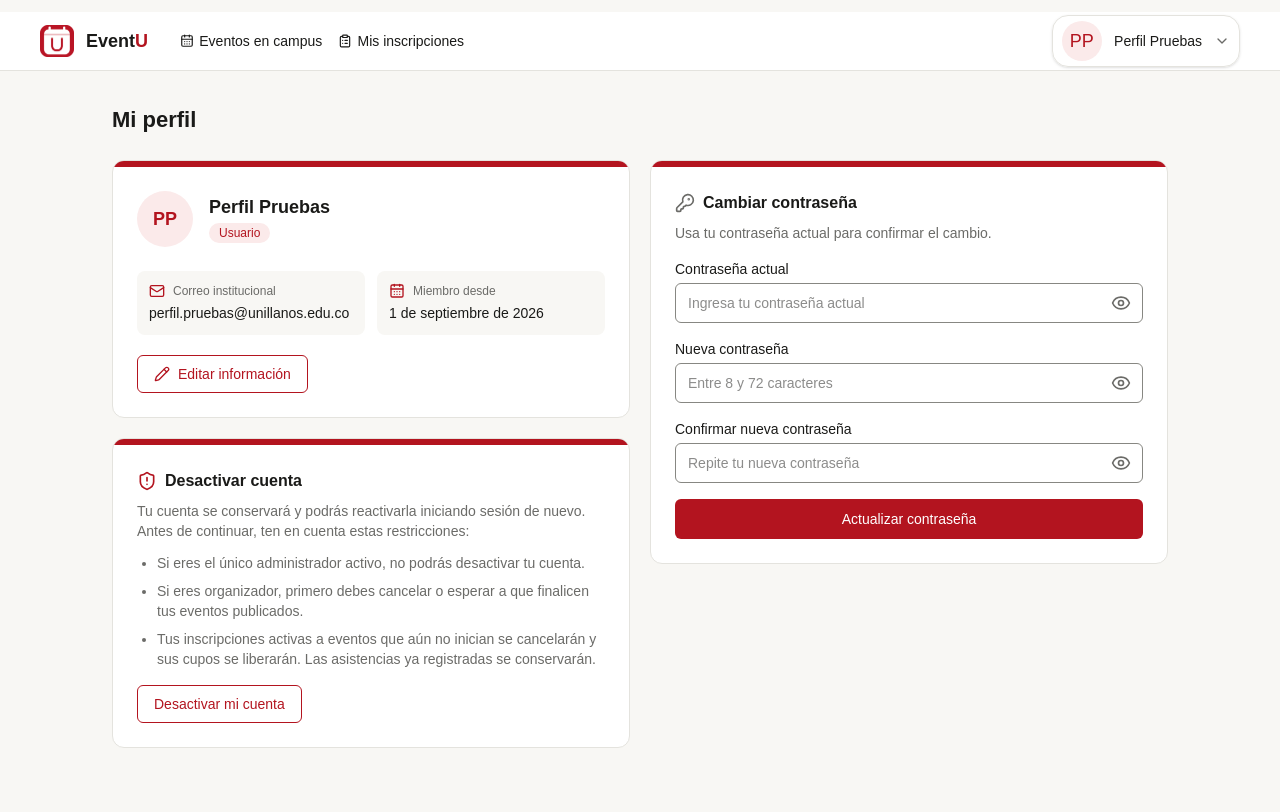
Test: Perfil de usuario (HU-19) › edita el nombre y lo muestra actualizado
Click the button "Editar información": [222, 374] box [137,355,308,393]
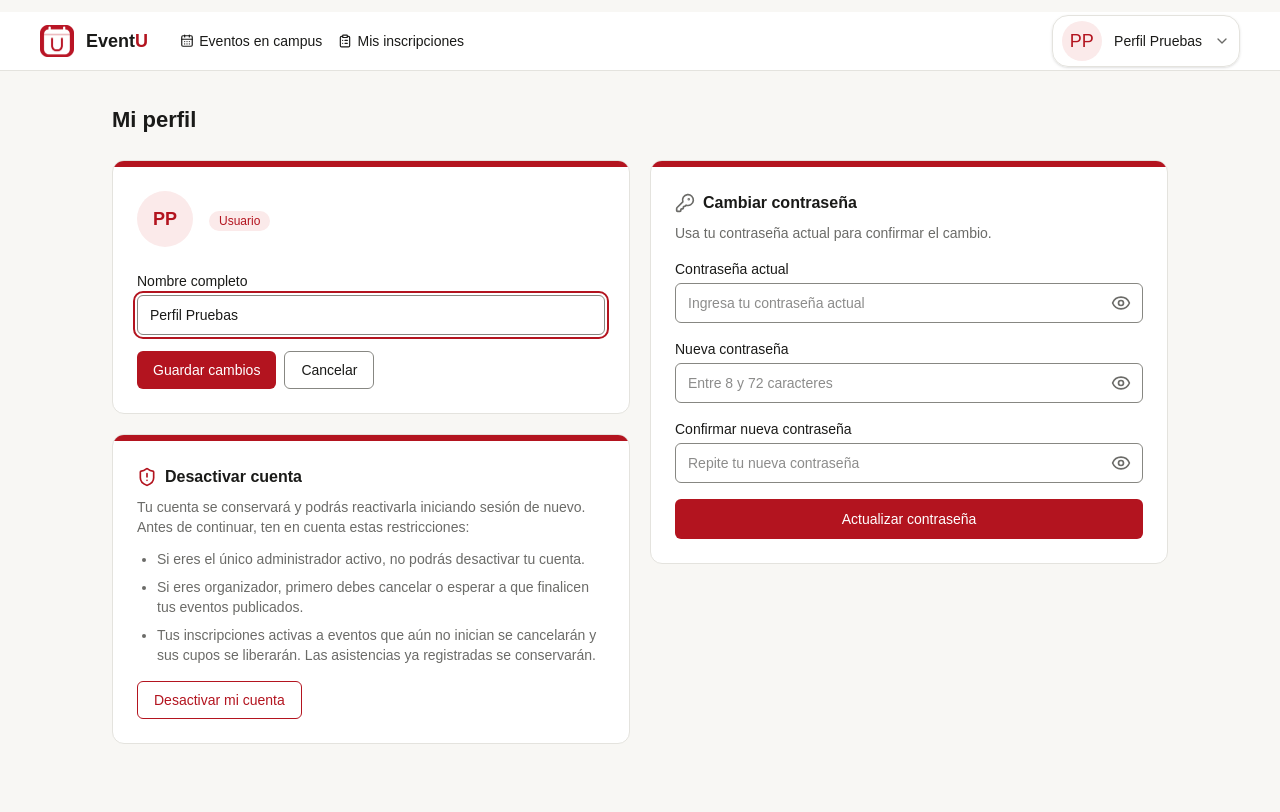
Replace the text in the field labelled "Nombre completo" with "Perfil Pruebas Editado": [371, 315] box [137,295,605,335]
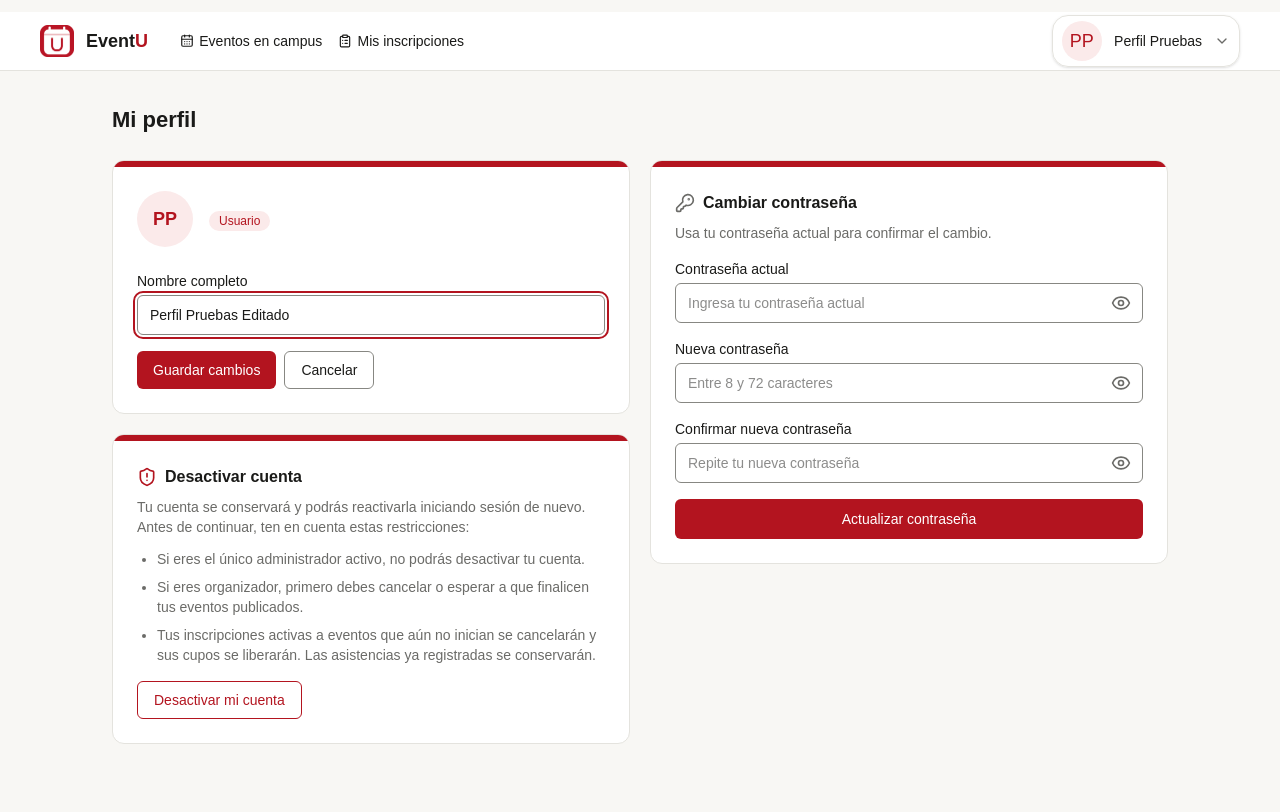
Click the button "Guardar cambios": [207, 370] box [137,351,276,389]
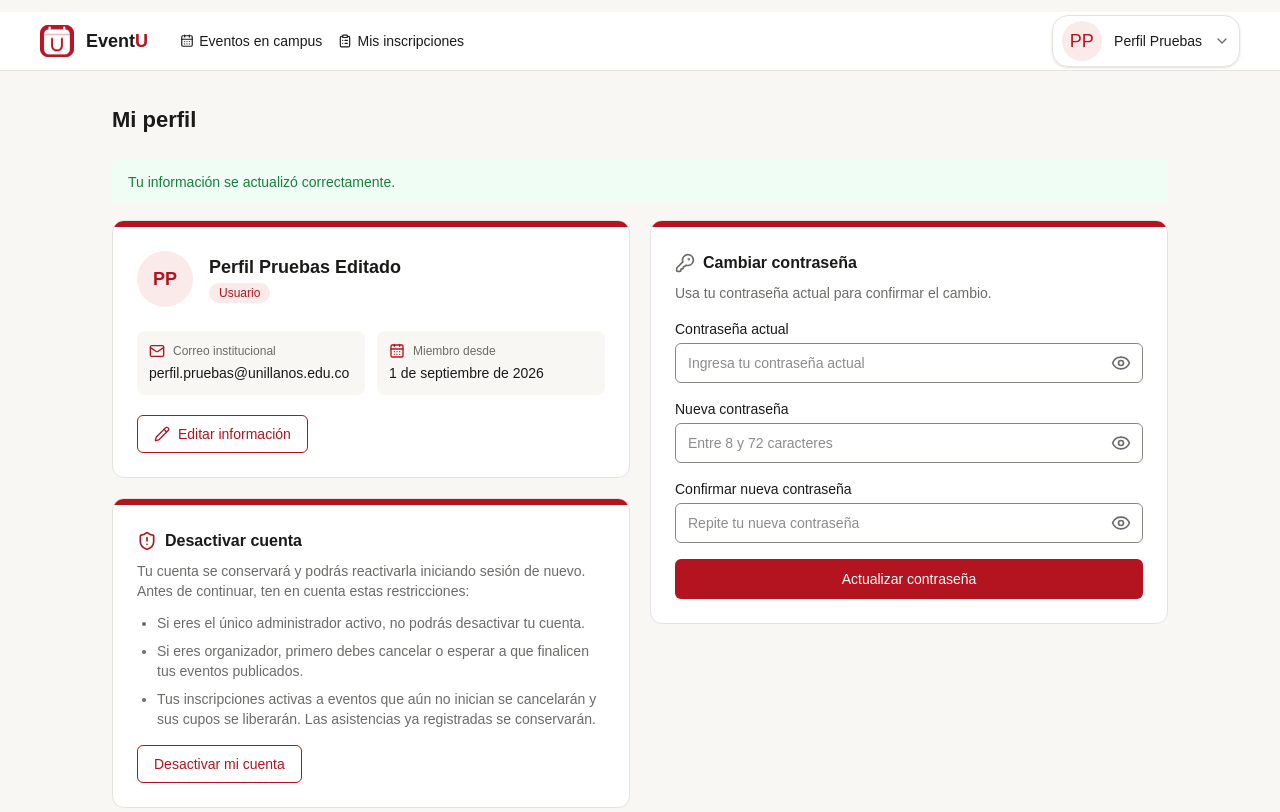
Expected: the text "Tu información se actualizó correctamente." is shown, [112,160,1168,204]
Expected: the heading "Perfil Pruebas Editado" is shown, [209,256,401,279]
